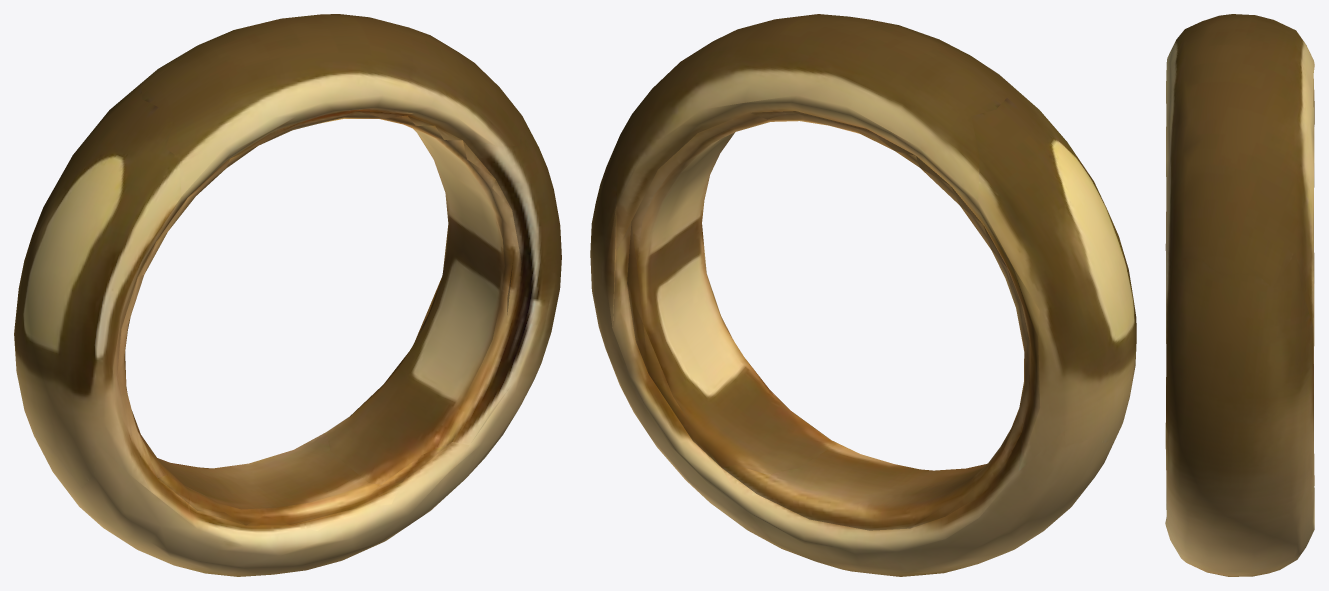
Rendered from flyingRing.glb.
3 renders of one model, left to right at view 1: azimuth 30°, elevation 25°; view 2: azimuth 150°, elevation 25°; view 3: azimuth 270°, elevation 25°, orthographic. The views are drawn at different scales.
Parts seen in each view (by area): view 1: model; view 2: model; view 3: model.
Boxes of the visible parts, x1,y1,x2,y2 form: model: [14, 14, 561, 576]; model: [590, 14, 1136, 576]; model: [1165, 14, 1314, 576].
Bounding box in the file's own units: 1.9 × 1.85 × 0.4958.
1 material, 1 textured.
